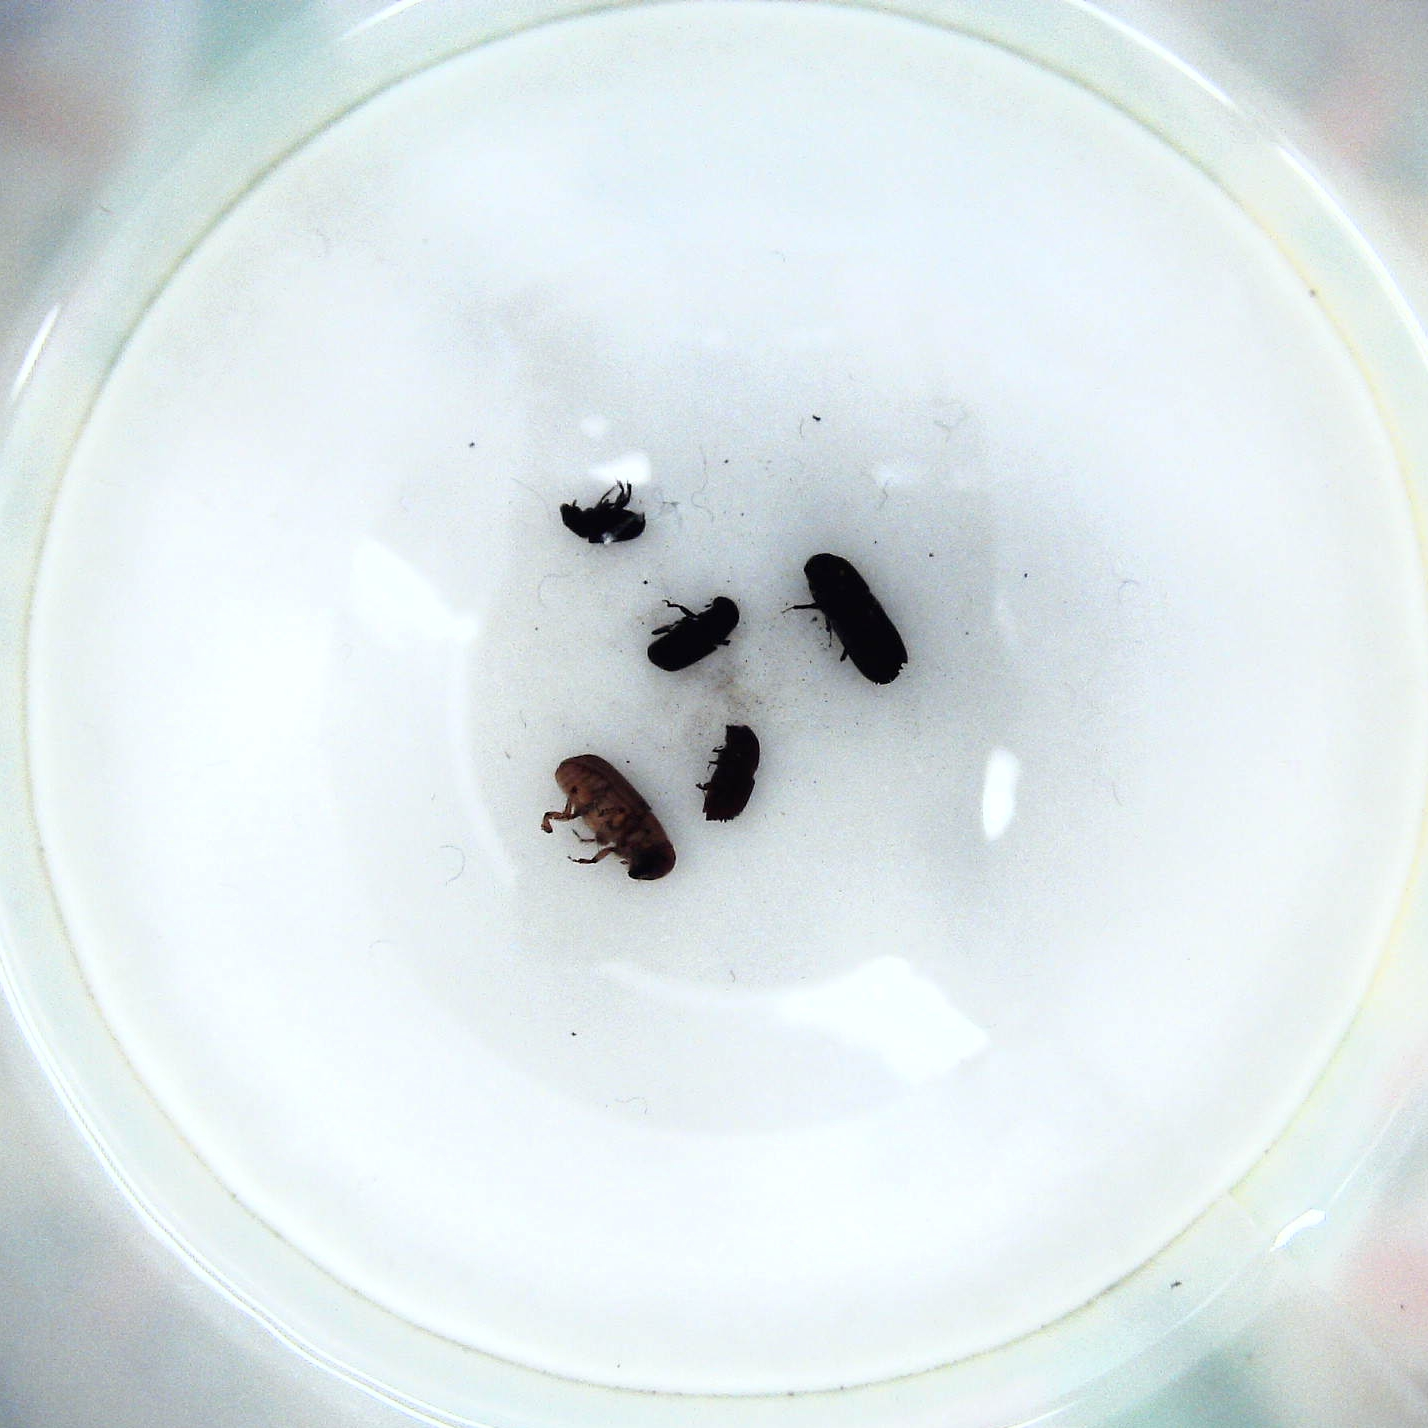Boerner: (790, 553, 911, 692)
Leconte: (539, 753, 683, 891)
armandi: (647, 587, 741, 675)
coleoptera: (554, 475, 650, 553)
linnaeus: (693, 719, 766, 826)
